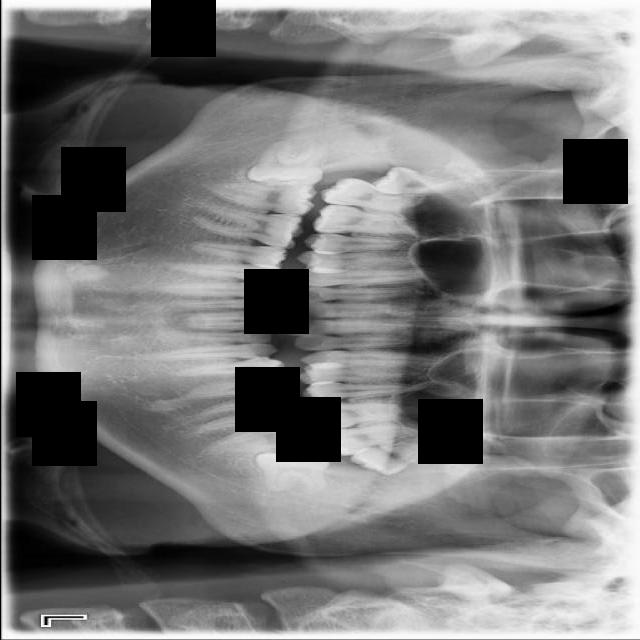3M ESPE Implant: (365, 164, 465, 202)
73: (90, 596, 96, 600)
BioHorizons Implant: (312, 416, 438, 459)
BioLife Implant: (346, 436, 451, 482)
Biomet 3i Implant: (252, 449, 329, 494)
Blue Sky Bio Implant: (200, 422, 318, 455)
Caries: (317, 171, 433, 220)
Implant: (201, 179, 318, 216)
Keystone Dental Implant: (244, 140, 328, 190)
